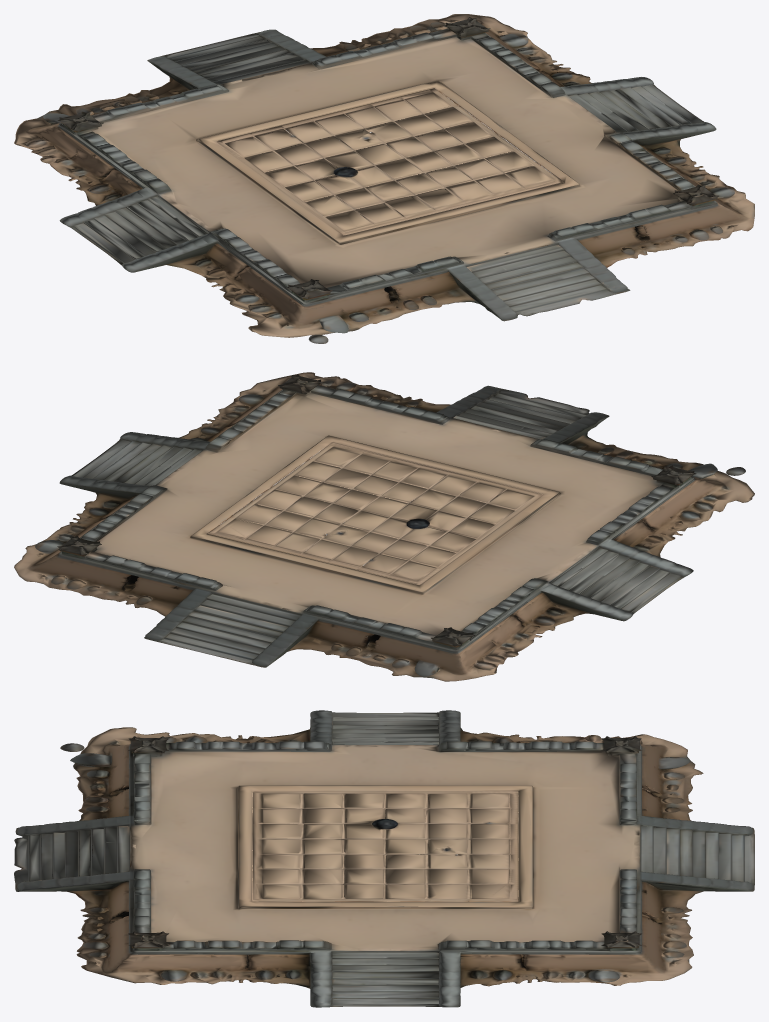
Rendered from command-platform-hy3-v1.glb.
3 views of the same model, one above another, from view 1: azimuth 30°, elevation 25°; view 2: azimuth 150°, elevation 25°; view 3: azimuth 270°, elevation 25° (orthographic). The views are drawn at different scales.
Parts seen in each view (by area): view 1: node_0; view 2: node_0; view 3: node_0.
Part boxes in pixels (bbox=[...]): node_0: bbox=[14, 14, 754, 343]; node_0: bbox=[14, 372, 754, 681]; node_0: bbox=[14, 710, 754, 1007].
Bounding box in the file's own units: 18 × 0.55 × 19.
Materials: 1 (1 with a texture image).
